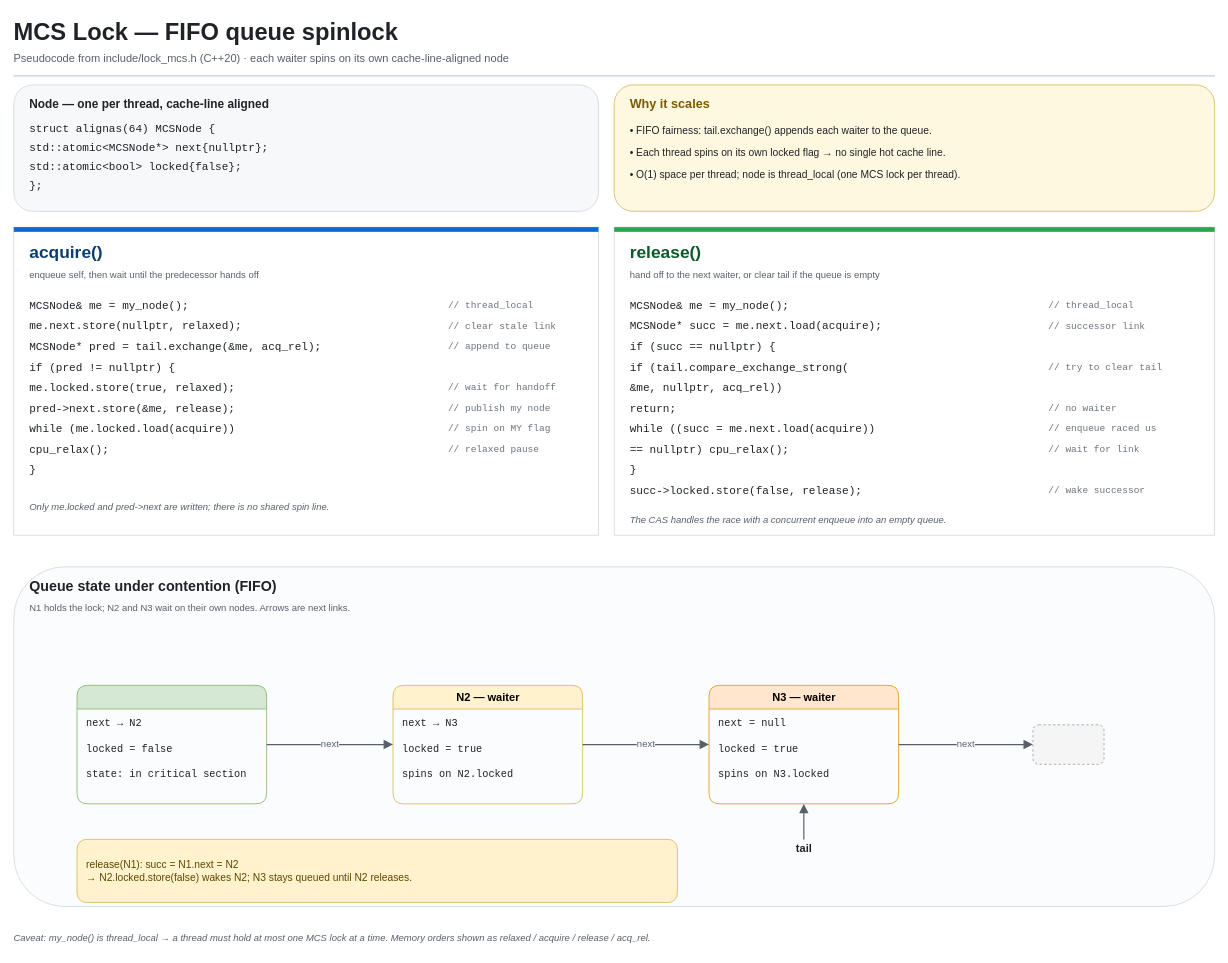
The diagram is 1228 pixels wide and 963 high, and some of its shapes have lost their labels. Each missing label, with the box of its shape:
N1 — holder: (76, 685, 267, 804)
null: (1032, 724, 1104, 764)
